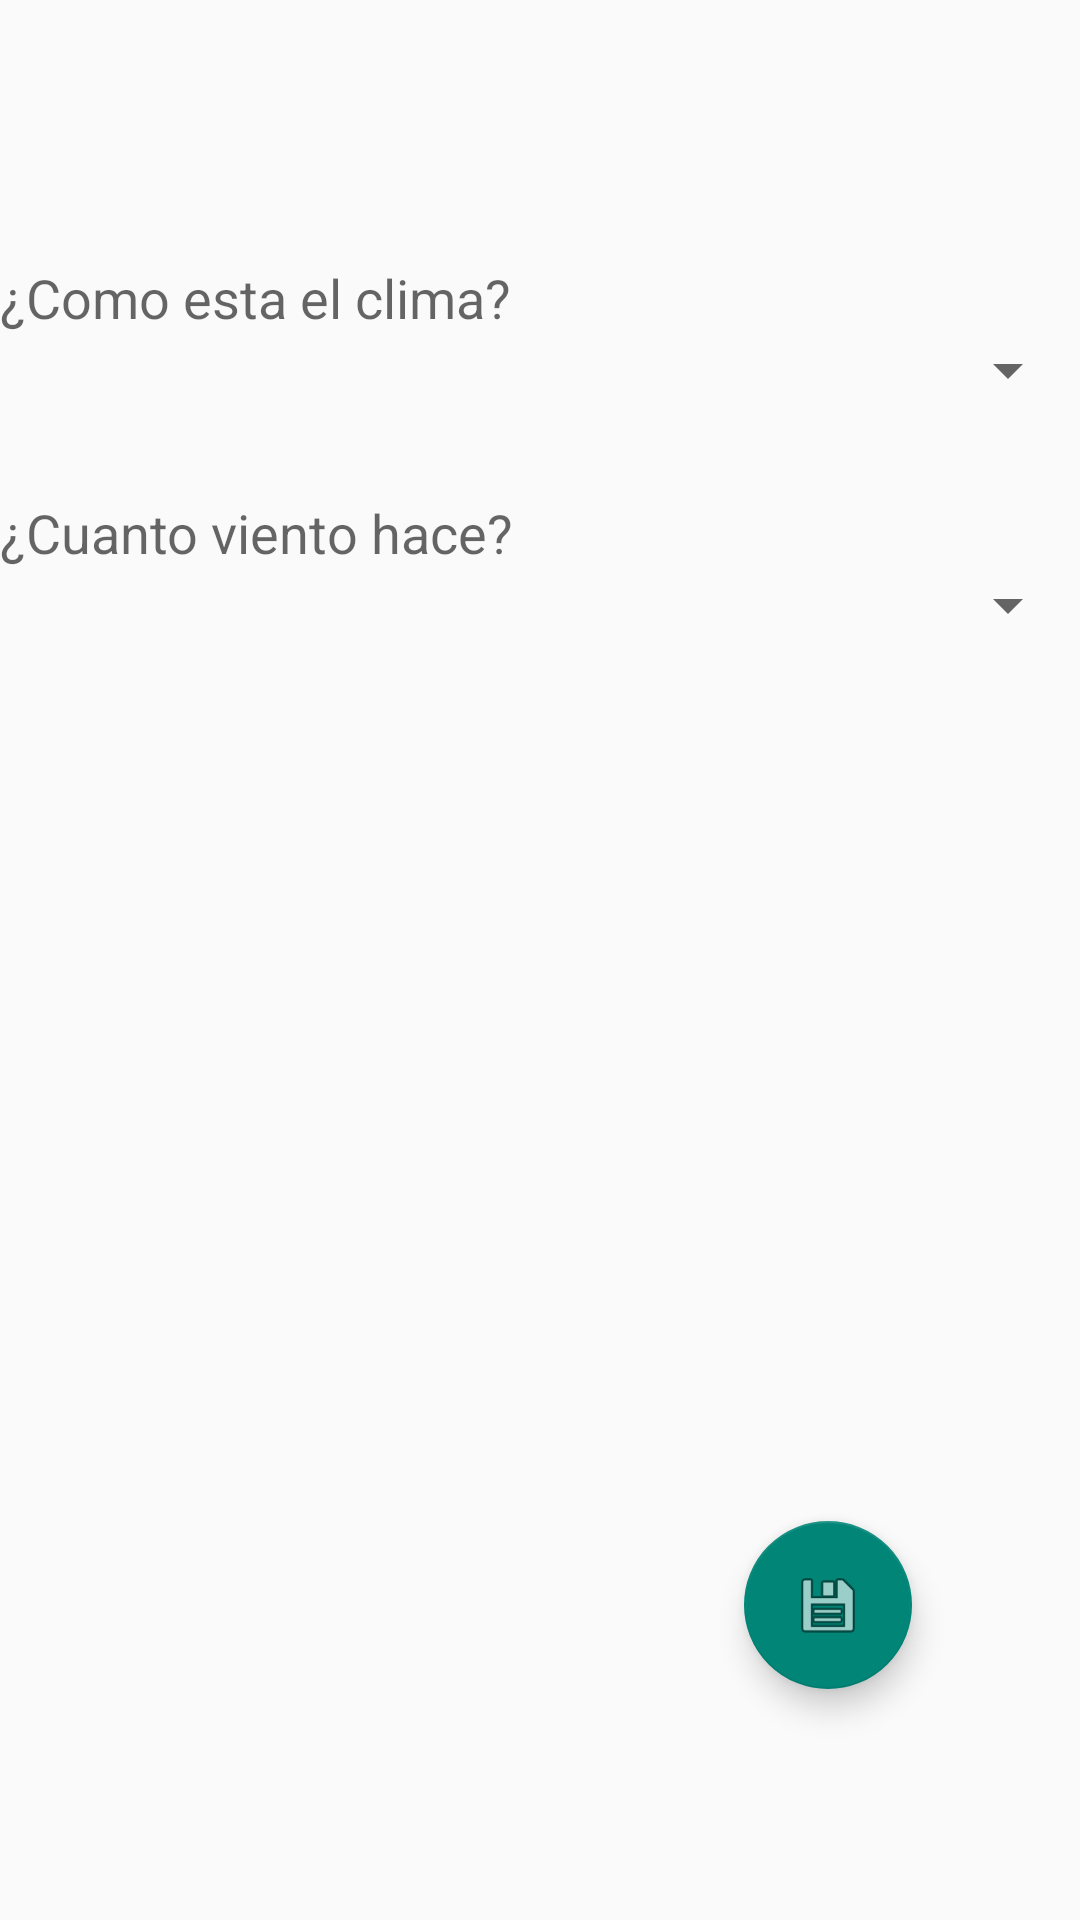

Icons on this 1080px×1920px Android screen, each with the point to tap as (x=x, y=y):
save: (x=828, y=1605)
